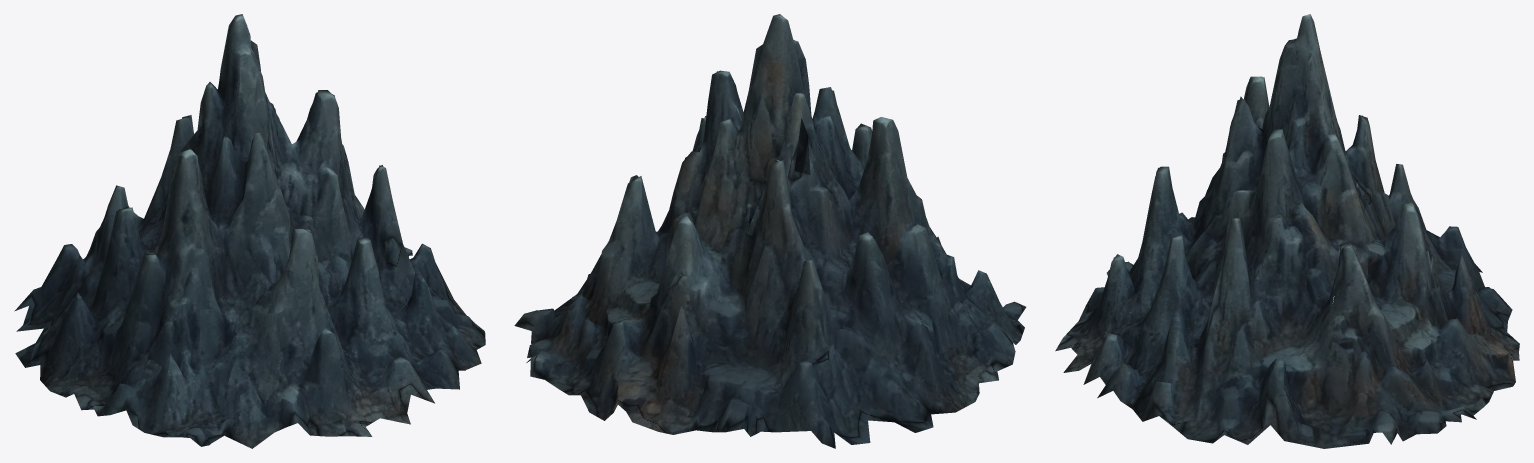
The model's file is haunted-mountain-2.glb.
3 renders of one model, left to right at view 1: azimuth 30°, elevation 25°; view 2: azimuth 150°, elevation 25°; view 3: azimuth 270°, elevation 25°, orthographic. The views are drawn at different scales.
Visible parts, largest first — view 1: geometry_0; view 2: geometry_0; view 3: geometry_0.
Boxes of the visible parts, x1,y1,x2,y2 form: geometry_0: (14,14,485,448); geometry_0: (514,14,1026,448); geometry_0: (1055,14,1519,448).
Size of the model in its own units: 0.9204 by 0.7233 by 0.9104.
Materials: 1 (1 with a texture image).
